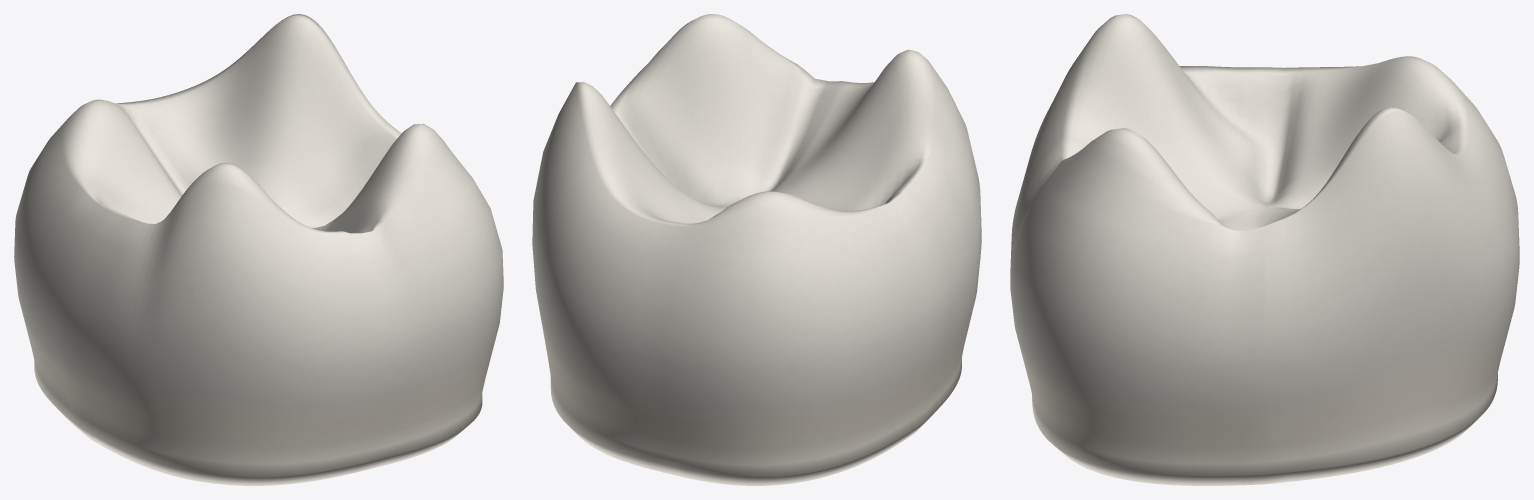
Rendered from dental-crown.glb.
3 views of the same model, side by side, from view 1: azimuth 30°, elevation 25°; view 2: azimuth 150°, elevation 25°; view 3: azimuth 270°, elevation 25° (orthographic). The views are drawn at different scales.
Parts seen in each view (by area): view 1: Upper_Molar_Crown; view 2: Upper_Molar_Crown; view 3: Upper_Molar_Crown.
Part boxes in pixels (x1=…): Upper_Molar_Crown: x1=14, y1=14, x2=503, y2=485; Upper_Molar_Crown: x1=532, y1=14, x2=981, y2=485; Upper_Molar_Crown: x1=1010, y1=14, x2=1519, y2=485.
Size of the model in its own units: 0.0101 by 0.0081 by 0.0108.
Materials: 1 (1 with a texture image).
